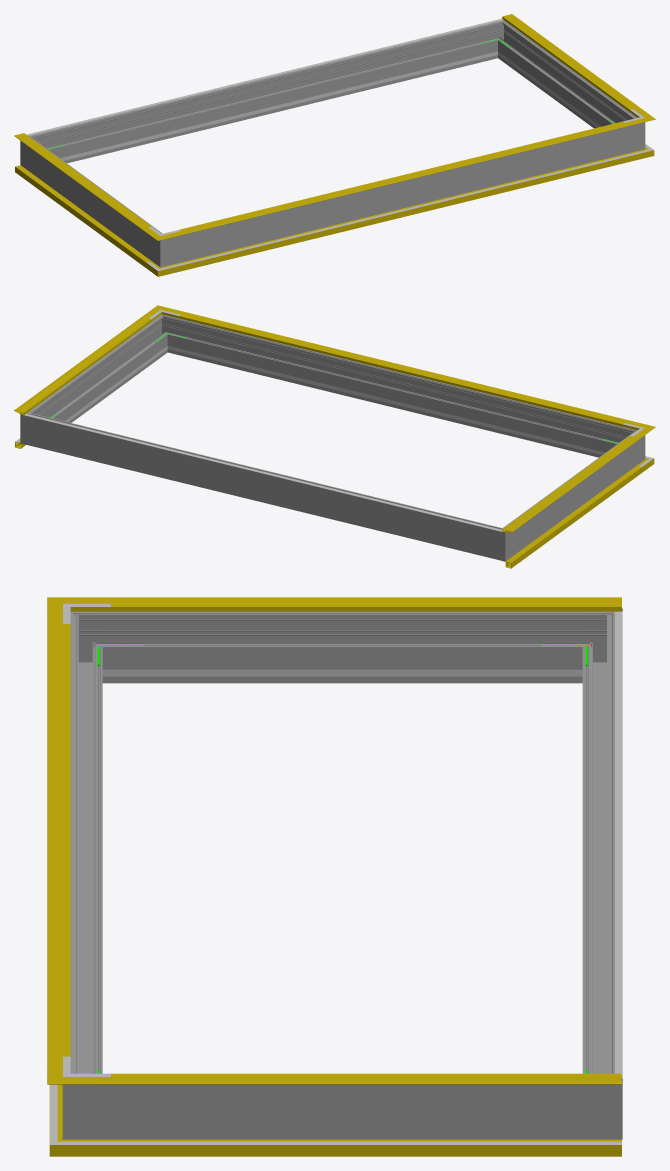
3 views of the same model, one above another, from view 1: azimuth 30°, elevation 25°; view 2: azimuth 150°, elevation 25°; view 3: azimuth 270°, elevation 25° (orthographic). The views are drawn at different scales.
Visible parts, largest first — view 1: 3DGeom-276, 3DGeom-298, 3DGeom-297, 3DGeom-11, 3DGeom-268, 3DGeom-141, 3DGeom-244, 3DGeom-145, 3DGeom-6, 3DGeom-220, 3DGeom-20, 3DGeom-158 (+8 smaller); view 2: 3DGeom-298, 3DGeom-276, 3DGeom-297, 3DGeom-141, 3DGeom-268, 3DGeom-239, 3DGeom-145, 3DGeom-6, 3DGeom-220, 3DGeom-158, 3DGeom-147, 3DGeom-278 (+6 smaller); view 3: 3DGeom-268, 3DGeom-297, 3DGeom-298, 3DGeom-276, 3DGeom-16, 3DGeom-141, 3DGeom-147, 3DGeom-145, 3DGeom-220, 3DGeom-158, 3DGeom-232, 3DGeom-290 (+7 smaller).
Part boxes in pixels (<box>): 3DGeom-276: <box>43,24,494,163</box>; 3DGeom-298: <box>181,127,624,262</box>; 3DGeom-297: <box>500,27,629,128</box>; 3DGeom-11: <box>176,153,633,271</box>; 3DGeom-268: <box>32,143,154,257</box>; 3DGeom-141: <box>175,121,635,235</box>; 3DGeom-244: <box>67,56,477,159</box>; 3DGeom-145: <box>502,14,643,114</box>; 3DGeom-6: <box>15,165,151,267</box>; 3DGeom-220: <box>27,18,503,135</box>; 3DGeom-20: <box>177,154,632,265</box>; 3DGeom-158: <box>180,121,623,230</box>; 3DGeom-298: <box>171,318,622,457</box>; 3DGeom-276: <box>41,416,488,556</box>; 3DGeom-297: <box>36,321,165,422</box>; 3DGeom-141: <box>172,310,634,427</box>; 3DGeom-268: <box>511,437,633,552</box>; 3DGeom-239: <box>187,350,597,453</box>; 3DGeom-145: <box>14,314,155,414</box>; 3DGeom-6: <box>502,465,642,568</box>; 3DGeom-220: <box>24,414,502,531</box>; 3DGeom-158: <box>179,315,623,424</box>; 3DGeom-147: <box>502,434,643,532</box>; 3DGeom-278: <box>484,522,517,561</box>; 3DGeom-268: <box>110,611,574,683</box>; 3DGeom-297: <box>110,1084,574,1139</box>; 3DGeom-298: <box>70,628,102,1073</box>; 3DGeom-276: <box>582,628,614,1073</box>; 3DGeom-16: <box>97,1139,621,1156</box>; 3DGeom-141: <box>47,617,62,1063</box>; 3DGeom-147: <box>95,597,621,611</box>; 3DGeom-145: <box>95,1077,621,1084</box>; 3DGeom-220: <box>615,611,622,1078</box>; 3DGeom-158: <box>63,624,70,1056</box>; 3DGeom-232: <box>149,669,536,676</box>; 3DGeom-290: <box>62,1061,110,1139</box>.
Size of the model in its own units: 3.66 by 0.2596 by 1.83.
